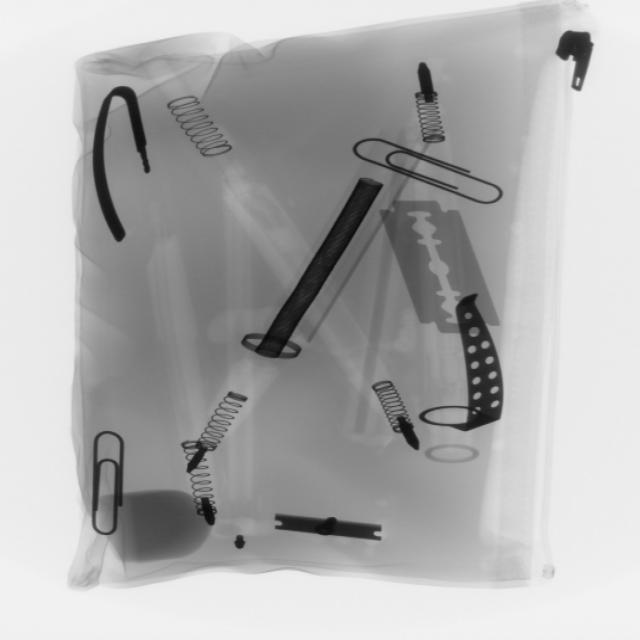BLADE: (382, 189, 498, 347)
